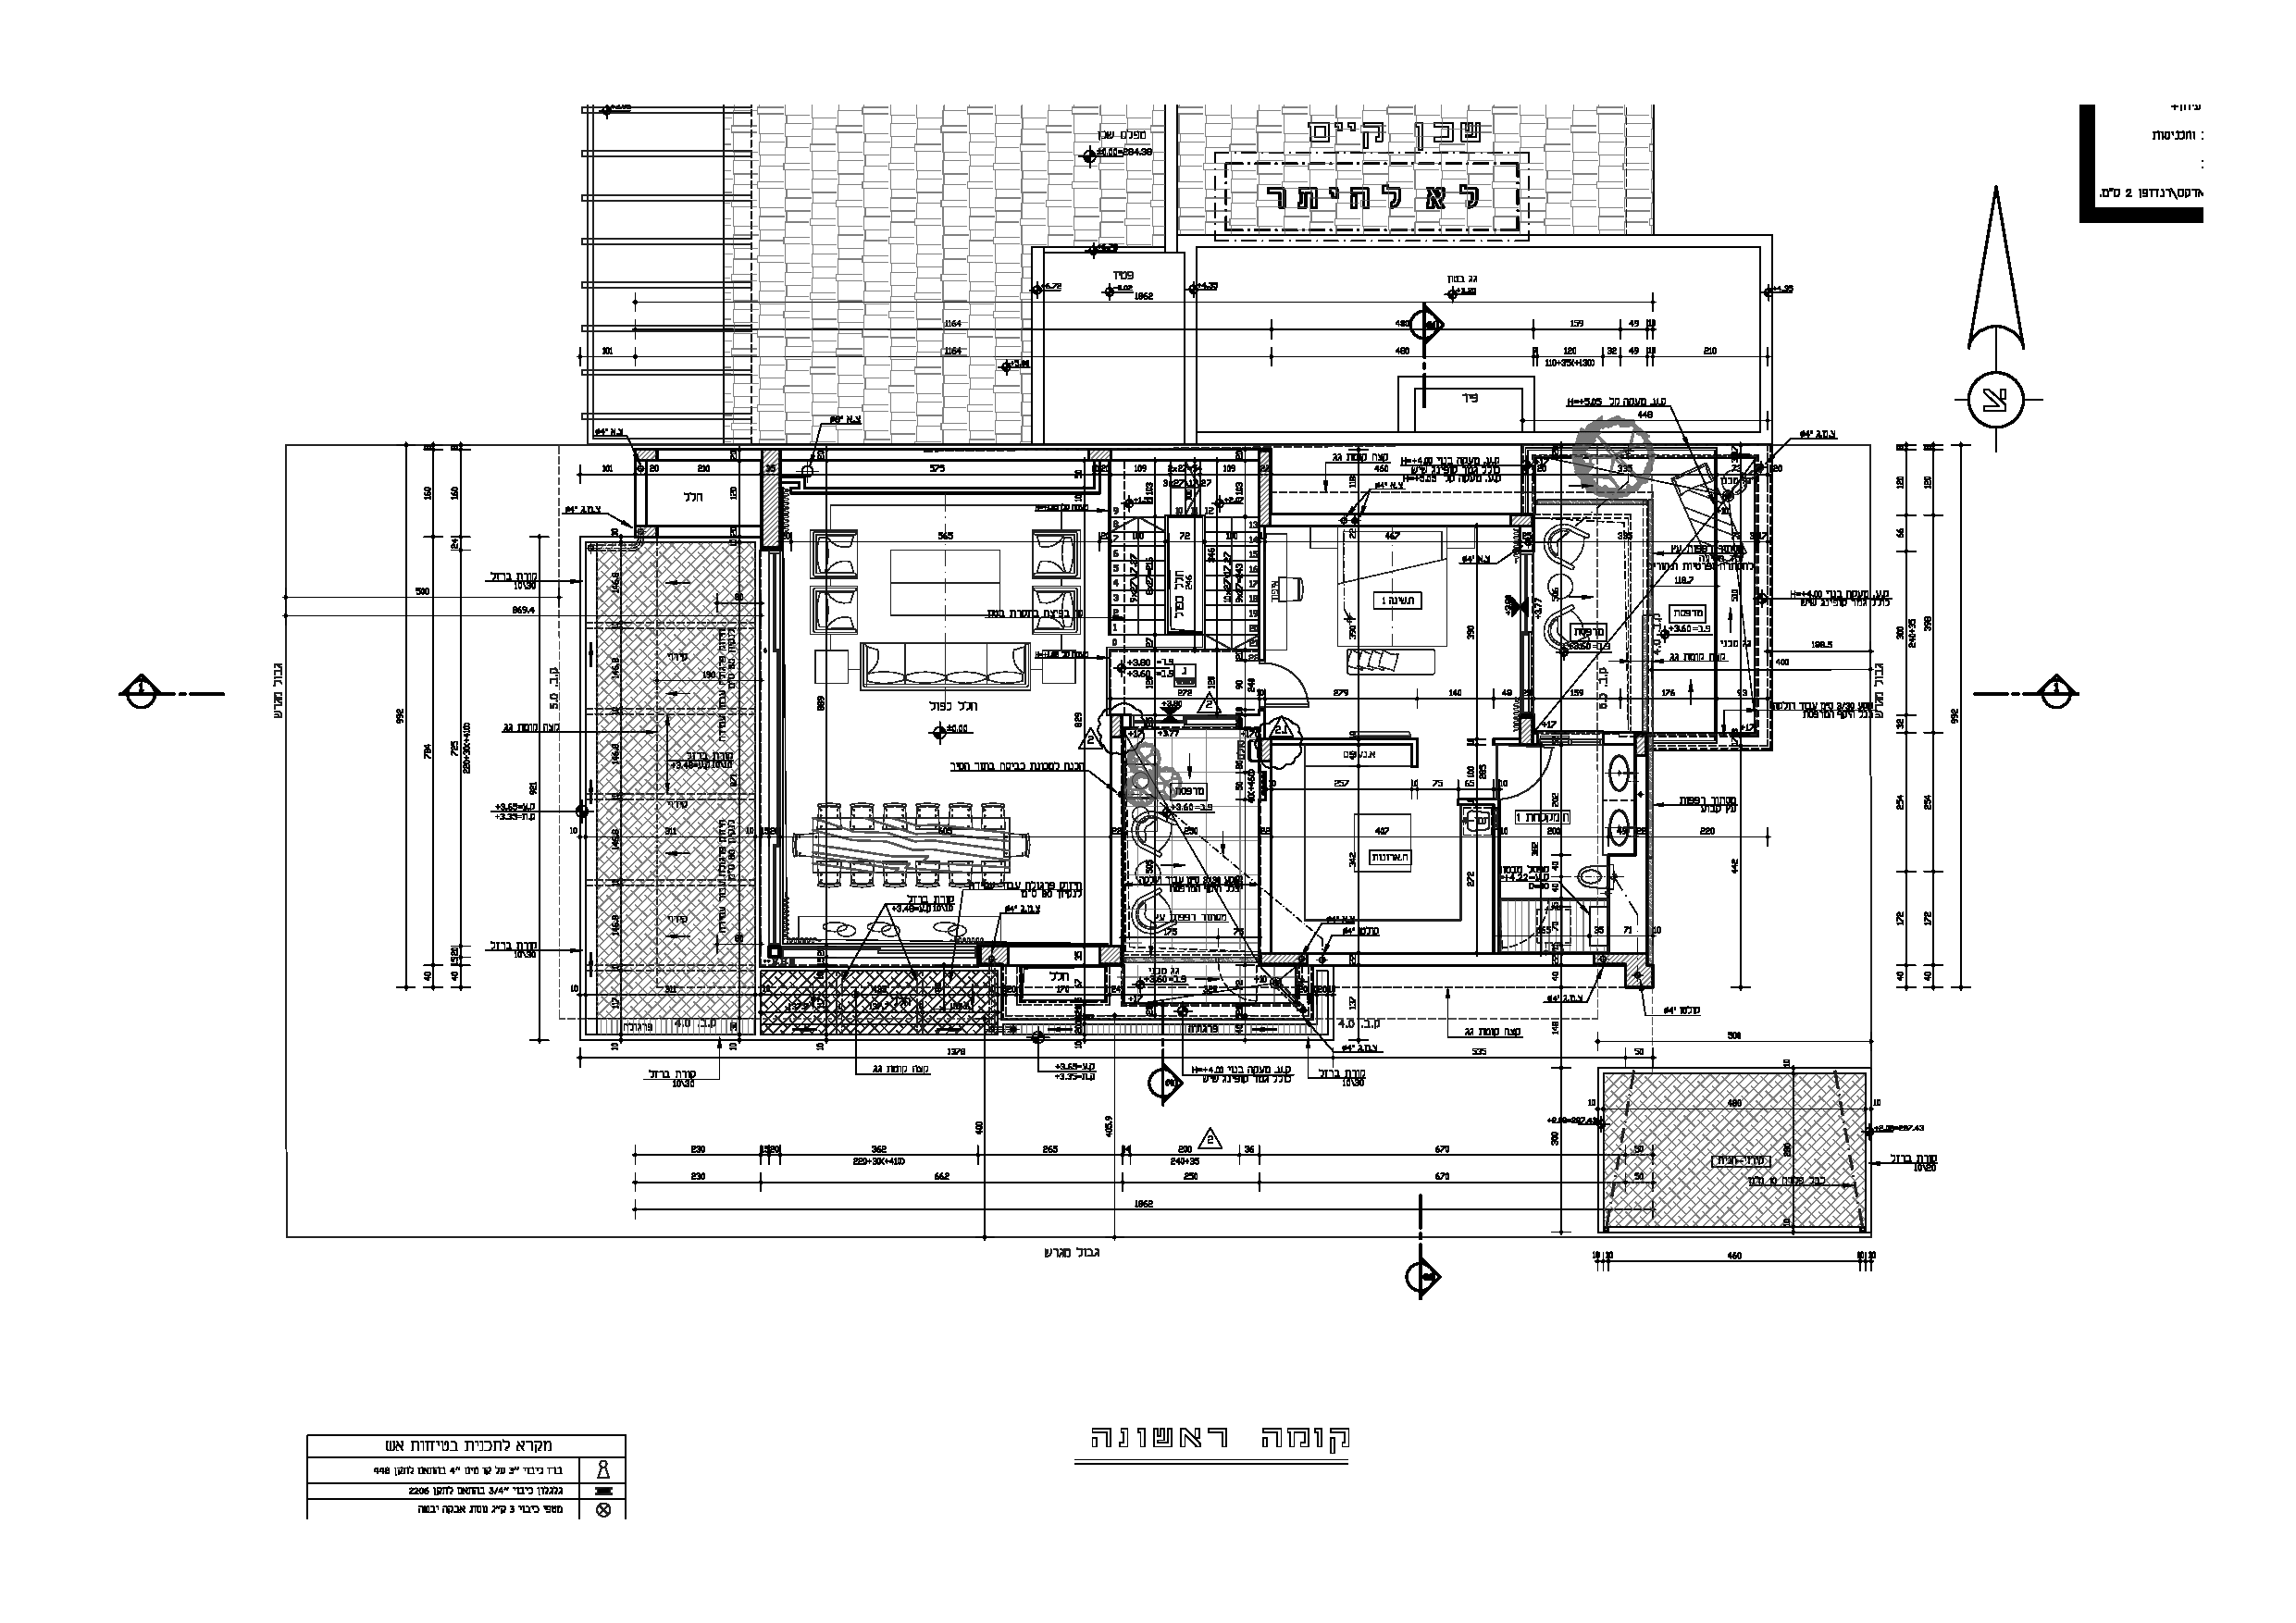window: (1498, 539, 1555, 731), (1121, 938, 1291, 984), (861, 941, 1000, 978), (1520, 729, 1646, 762), (1637, 729, 1771, 757)
